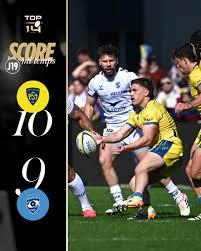ballon_rugby: (75, 130, 99, 160)
